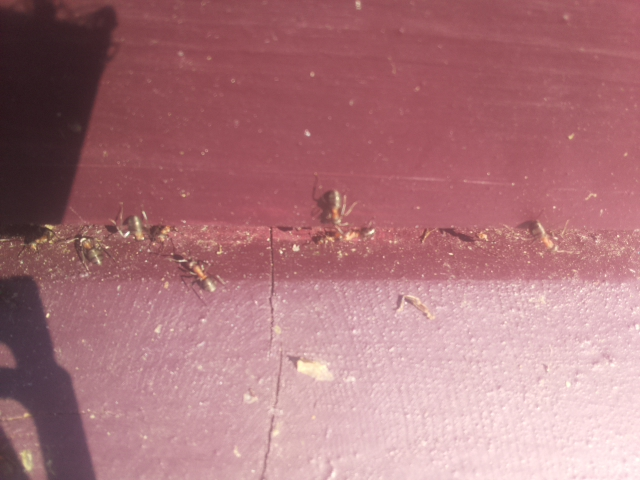ant: (162, 244, 224, 299), (312, 185, 356, 240), (390, 285, 436, 326), (522, 213, 562, 255), (73, 229, 107, 273), (120, 211, 148, 244)
